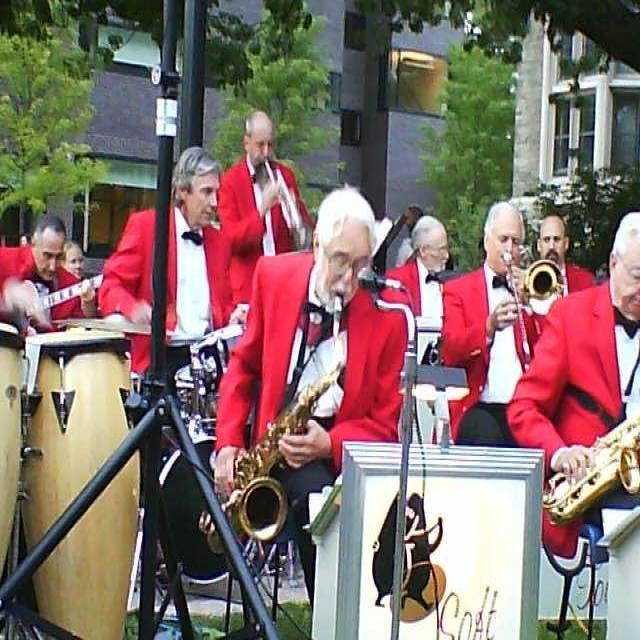drums: (121, 319, 263, 586)
guitar: (7, 271, 118, 324)
saxophone: (200, 298, 350, 559), (540, 412, 640, 526)
